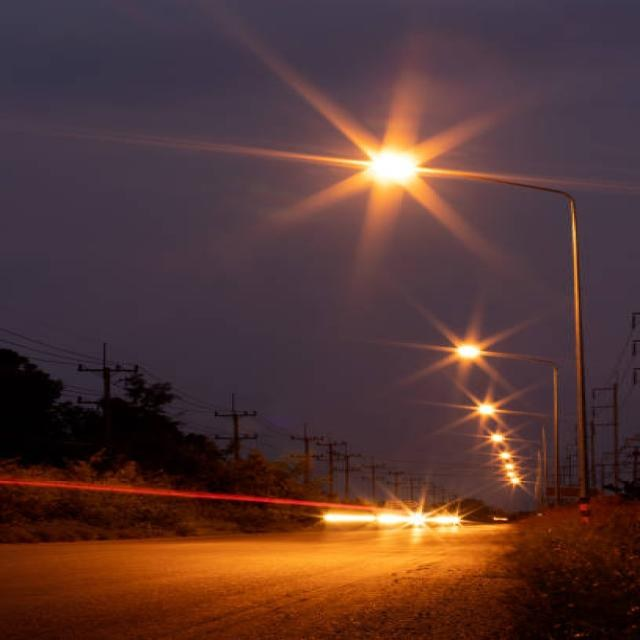acesa: (252, 89, 453, 228), (392, 305, 538, 404)
